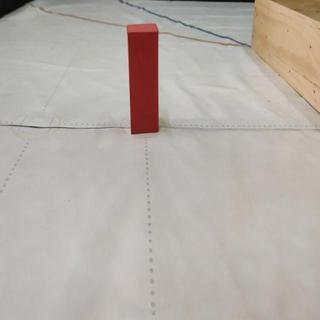redbox: (127, 23, 160, 136)
